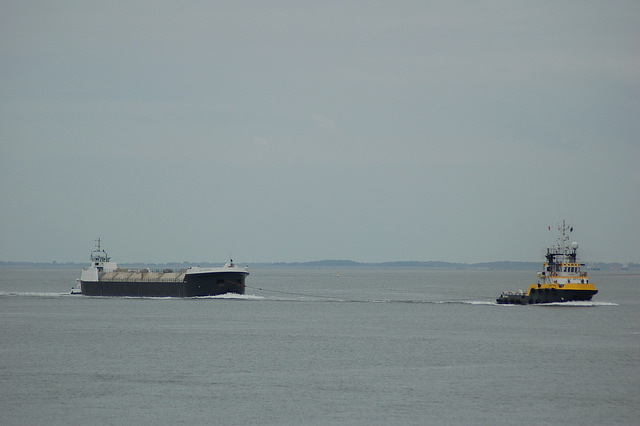LNG_ship: (77, 245, 256, 302)
tug_boat: (492, 232, 601, 315)
